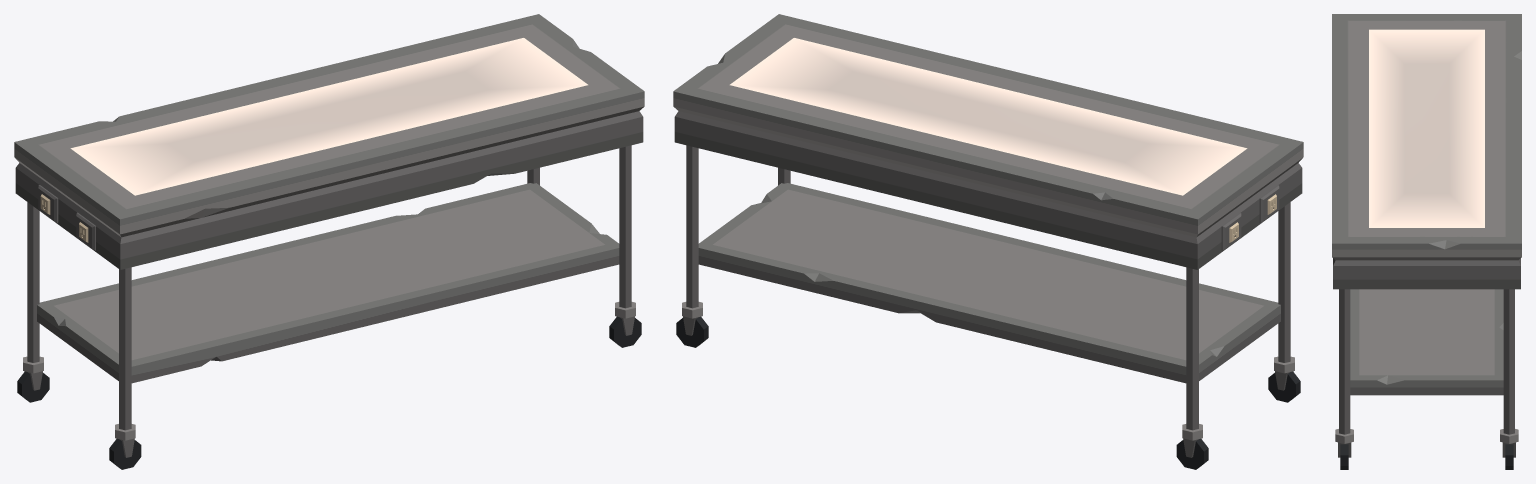
Rendered from SM_Prop_Table_03.fbx.
The picture shows the model from 3 angles, left to right: view 1: azimuth 30°, elevation 25°; view 2: azimuth 150°, elevation 25°; view 3: azimuth 270°, elevation 25°; orthographic projection. The views are drawn at different scales.
Visible parts, largest first — view 1: SM_Prop_Table_03; view 2: SM_Prop_Table_03; view 3: SM_Prop_Table_03.
Boxes of the visible parts, x1=… form: SM_Prop_Table_03: x1=14, y1=14, x2=644, y2=469; SM_Prop_Table_03: x1=673, y1=14, x2=1303, y2=469; SM_Prop_Table_03: x1=1332, y1=14, x2=1521, y2=469.
Size of the model in its own units: 222 by 102 by 76.69.
